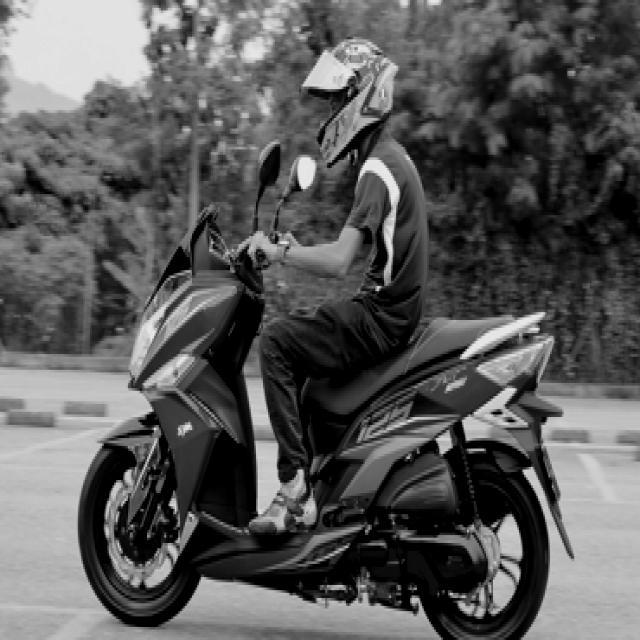Helmet: (300, 21, 400, 170)
